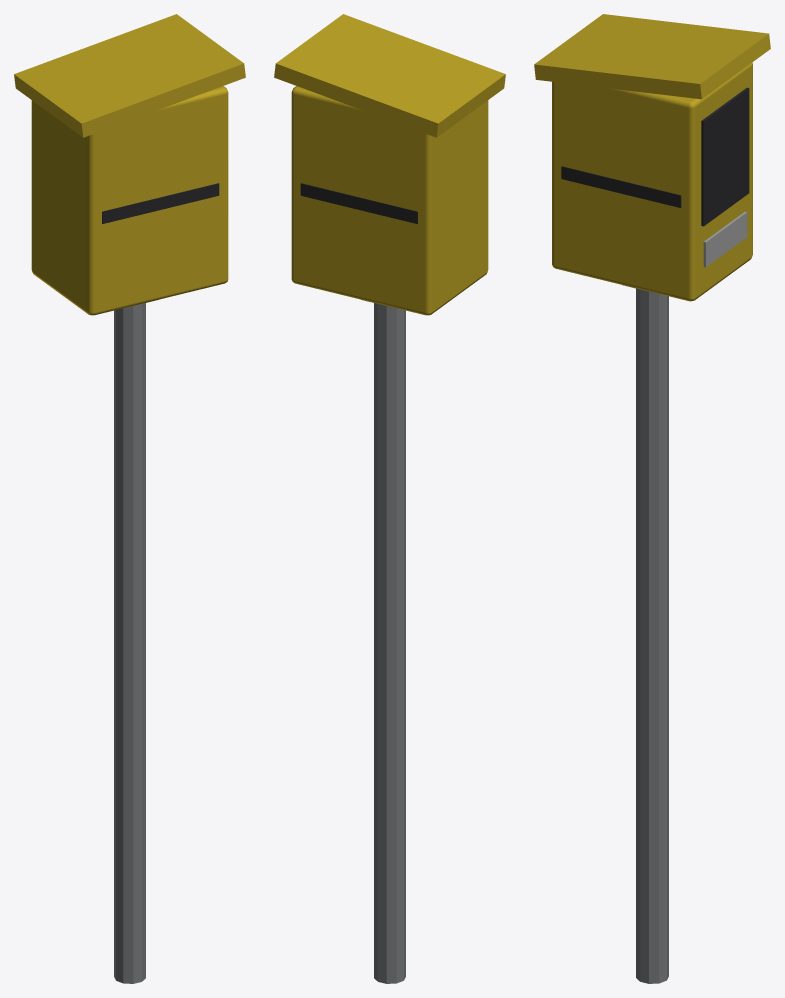
File: SM_Prop_fast_camera_0.glb
The picture shows the model from 3 angles, left to right: view 1: azimuth 30°, elevation 25°; view 2: azimuth 150°, elevation 25°; view 3: azimuth 330°, elevation 25°; orthographic projection. The views are drawn at different scales.
Parts seen in each view (by area): view 1: SM_Prop_fast_camera_0; view 2: SM_Prop_fast_camera_0; view 3: SM_Prop_fast_camera_0.
Boxes of the visible parts, x1=… form: SM_Prop_fast_camera_0: x1=14, y1=14, x2=245, y2=983; SM_Prop_fast_camera_0: x1=274, y1=14, x2=505, y2=983; SM_Prop_fast_camera_0: x1=534, y1=14, x2=770, y2=983.
Size of the model in its own units: 0.7021 by 3.75 by 0.5.
